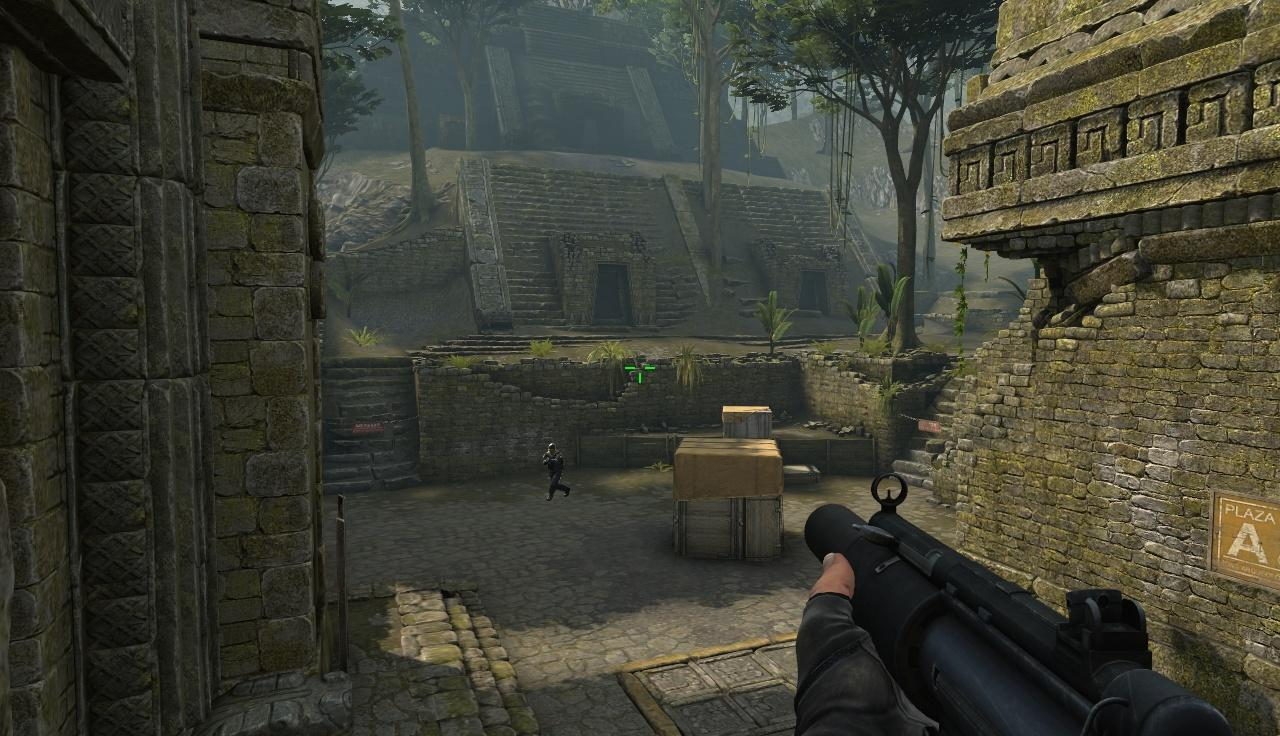ct: (546, 443, 568, 500)
cthead: (550, 444, 559, 454)
rifle: (792, 478, 1229, 736)
